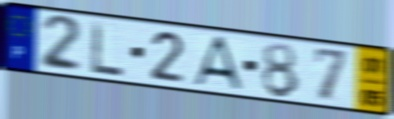2: (40, 13, 85, 72), (149, 29, 187, 84)
7: (312, 46, 350, 104)
8: (260, 40, 302, 99)
A: (190, 34, 246, 93)
L: (90, 19, 125, 79)
